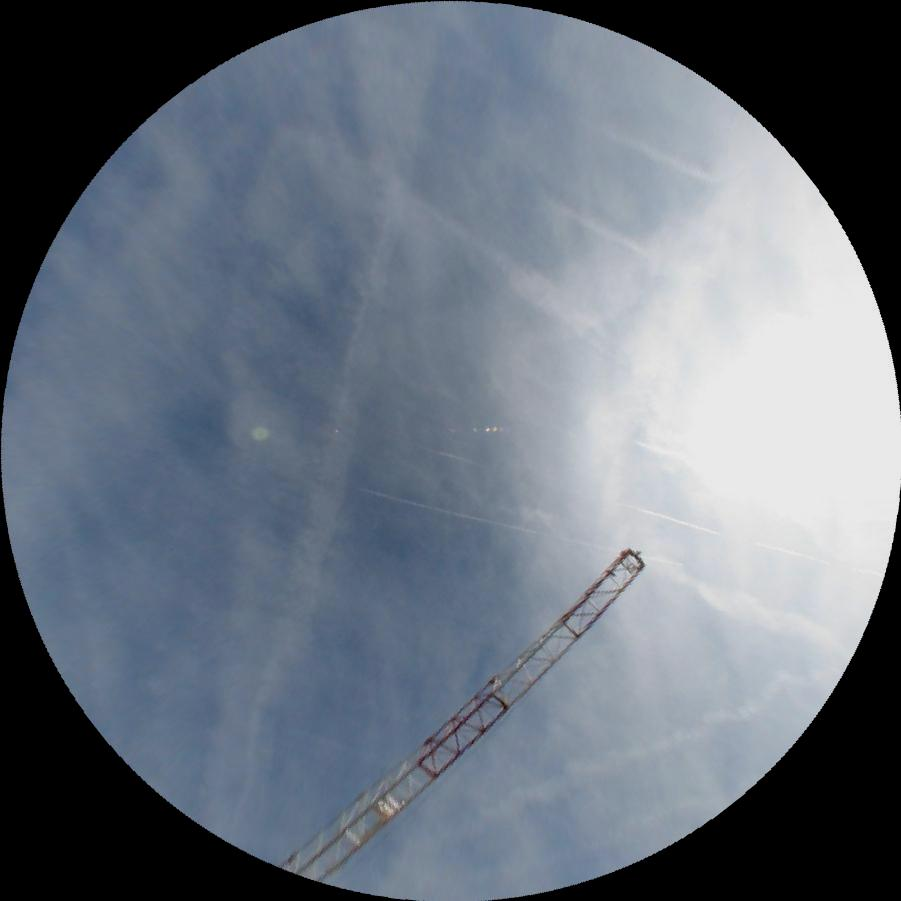contrail young: (422, 446, 884, 580), (358, 486, 683, 568)
